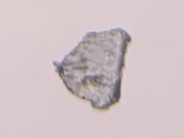microplastic: (53, 27, 132, 112)
